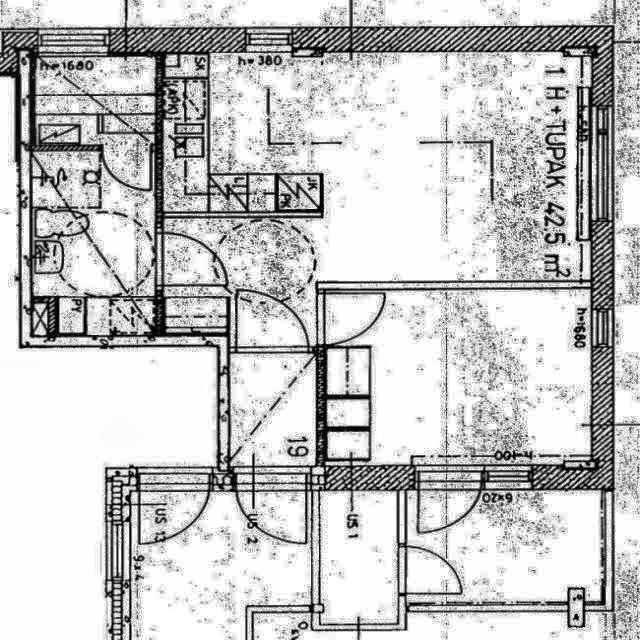room: (157, 43, 599, 348), (326, 288, 593, 465), (32, 152, 154, 335), (407, 490, 604, 602), (319, 490, 398, 624), (36, 57, 155, 144)
